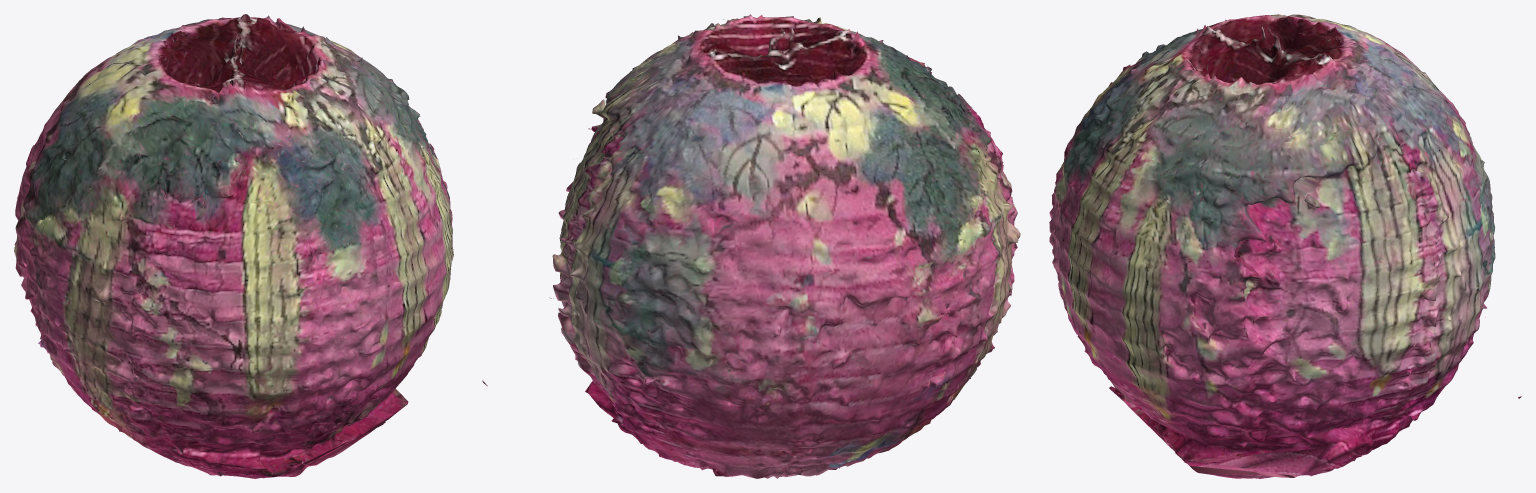
The model's file is ac3 rolex gourds.glb.
3 renders of one model, left to right at view 1: azimuth 30°, elevation 25°; view 2: azimuth 150°, elevation 25°; view 3: azimuth 270°, elevation 25°, orthographic. The views are drawn at different scales.
Bounding box in the file's own units: 944 × 1000 × 997.
Materials: 1 (1 with a texture image).
